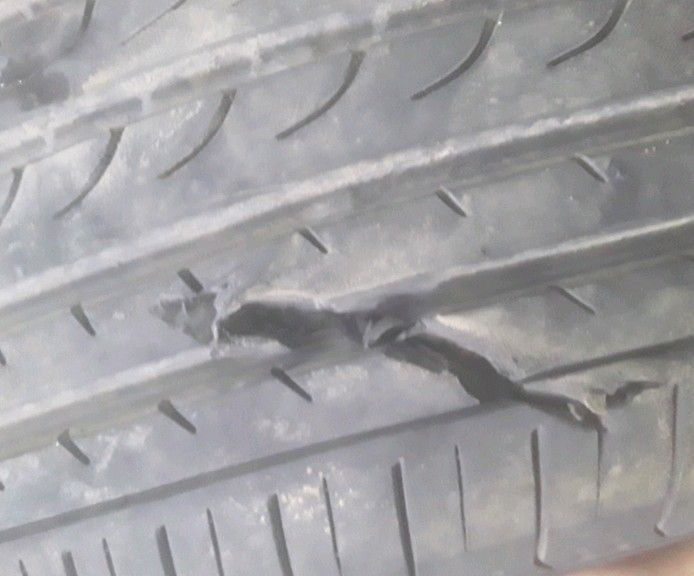tr: (148, 285, 673, 437)
